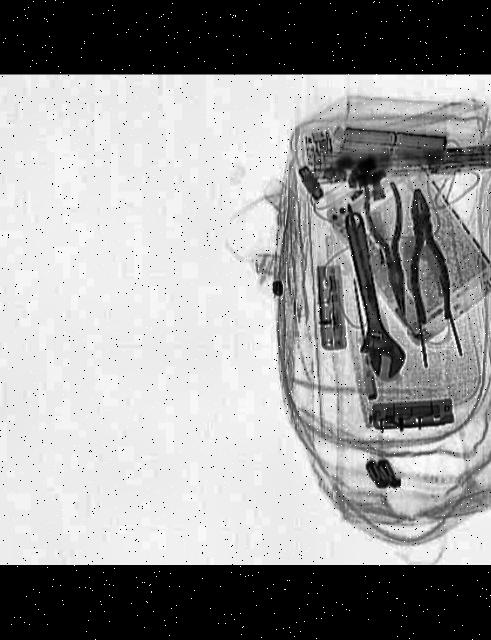Pliers: (356, 180, 419, 318), (396, 186, 450, 324)
Wrench: (325, 210, 408, 381)
